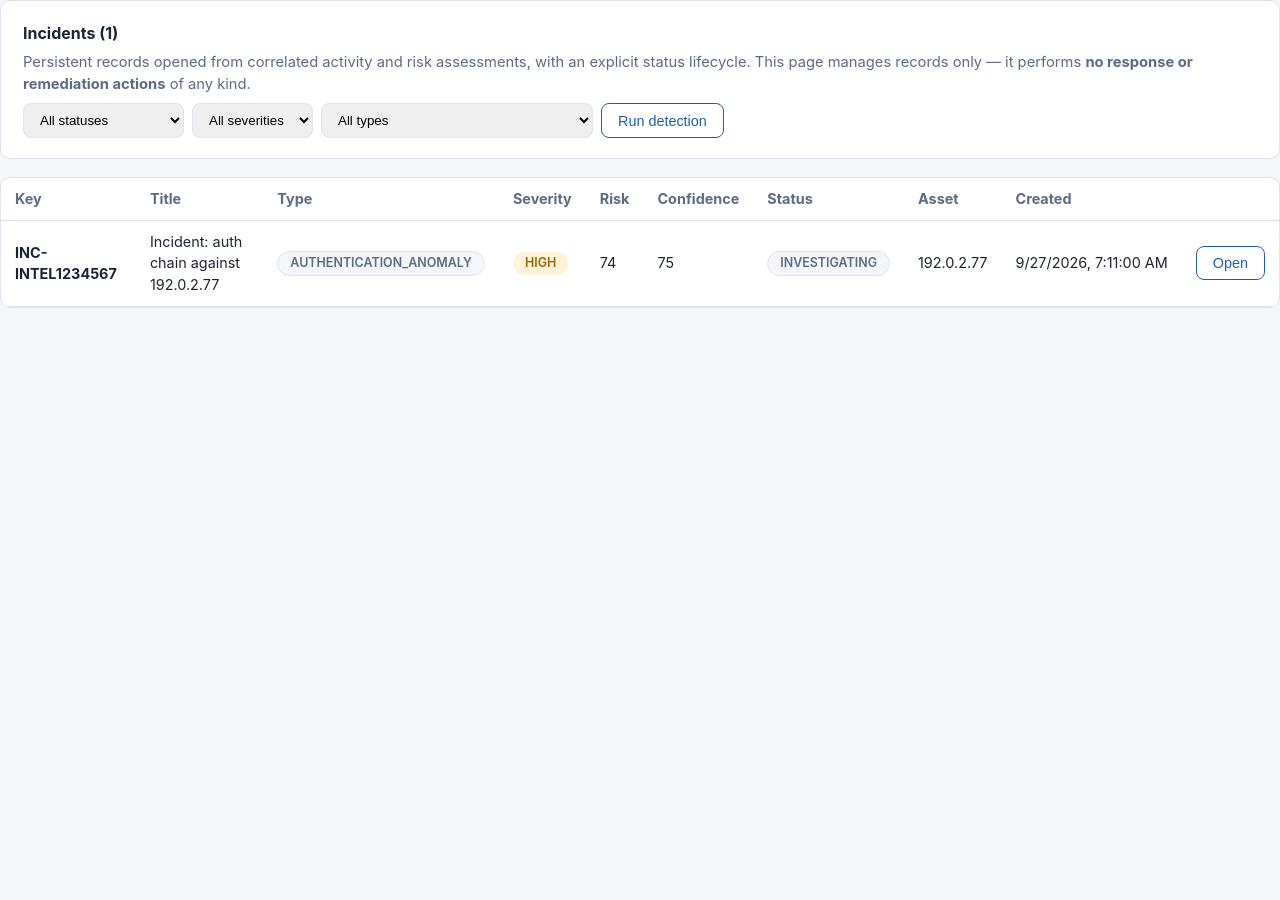
Incident lifecycle hardening (Phase 3, Step 38) › shows exactly the permitted transitions for INVESTIGATING
Click the button "Open" at (1230, 263), box x1=1196 y1=246 x2=1265 y2=280
(page scrolled)
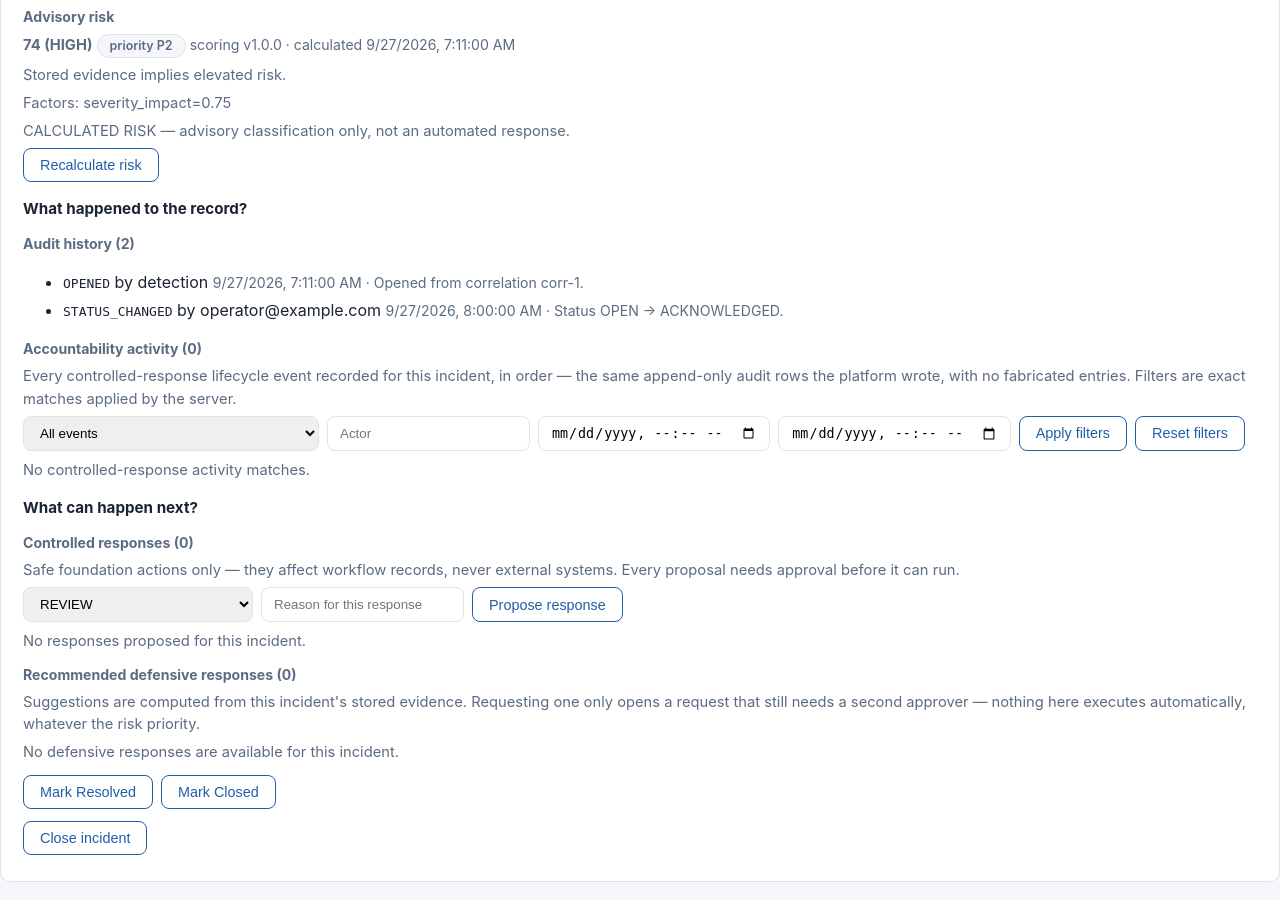
Expected: the button "Mark Resolved" is shown, x1=23 y1=776 x2=153 y2=810
Expected: the button "Mark Closed" is shown, x1=161 y1=776 x2=276 y2=810
